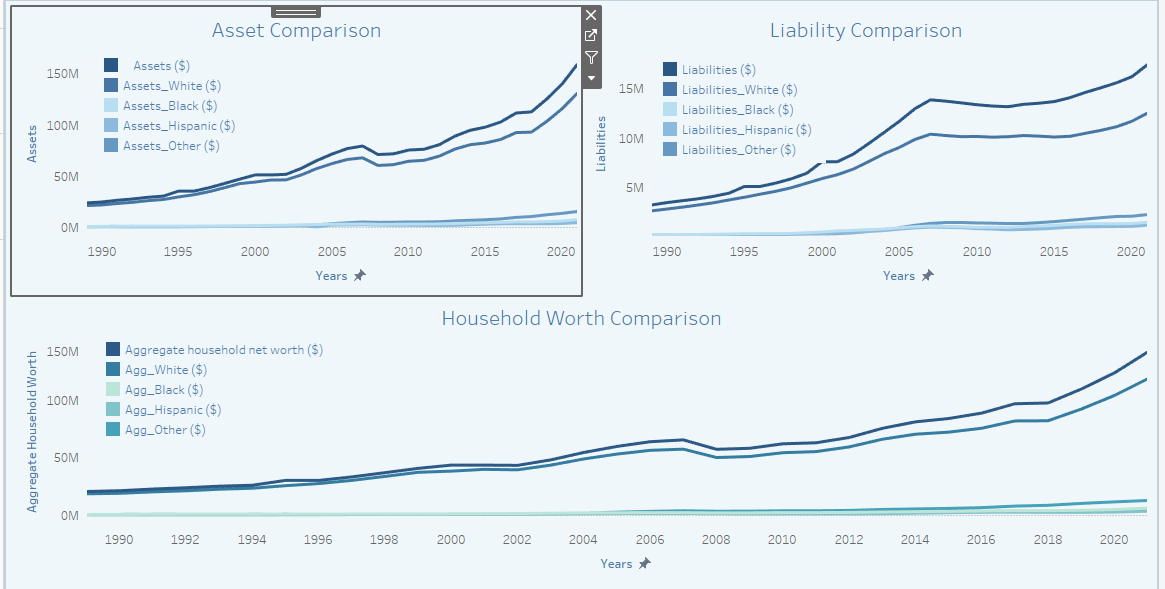

What the dashboard file says about the page in this screenshot:
{"tool":"tableau","page":{"name":"Dashboard 1","canvas":[1155,592],"ordinal":0},"visuals":[{"type":"worksheet","title":"Asset Comparison","mark":"Line","rows":["Value"],"cols":["Years"],"box":[8,8,569.5,288]},{"type":"worksheet","title":"Liability Comparison","mark":"Line","rows":["Value"],"cols":["Years"],"box":[577.5,8,569.5,288]},{"type":"legend","title":"Asset Comparison","param":"[federated.0jf3jpz0nr98aw11sj3ve1480ips].[none:Attribute:nk]","box":[97,56,140,118]},{"type":"legend","title":"Liability Comparison","param":"[federated.0jf3jpz0nr98aw11sj3ve1480ips].[none:Attribute:nk]","box":[656,60,166,104]},{"type":"worksheet","title":"Household Worth Comparison","mark":"Line","rows":["Value"],"cols":["Years"],"box":[8,296,1139,288]},{"type":"legend","title":"Household Worth Comparison","param":"[federated.0jf3jpz0nr98aw11sj3ve1480ips].[none:Attribute:nk]","box":[99,340,225,118]}]}

Visuals, with their boxes in screenshot pixels (x1, y1, x2, y2), scaled from the page's 1155x592 canvas onto the 1165x589 screenshot:
"Asset Comparison" worksheet (Line marks): 8:8:582:294
"Liability Comparison" worksheet (Line marks): 582:8:1157:294
"Asset Comparison" legend: 98:56:239:173
"Liability Comparison" legend: 662:60:829:163
"Household Worth Comparison" worksheet (Line marks): 8:294:1157:581
"Household Worth Comparison" legend: 100:338:327:456
